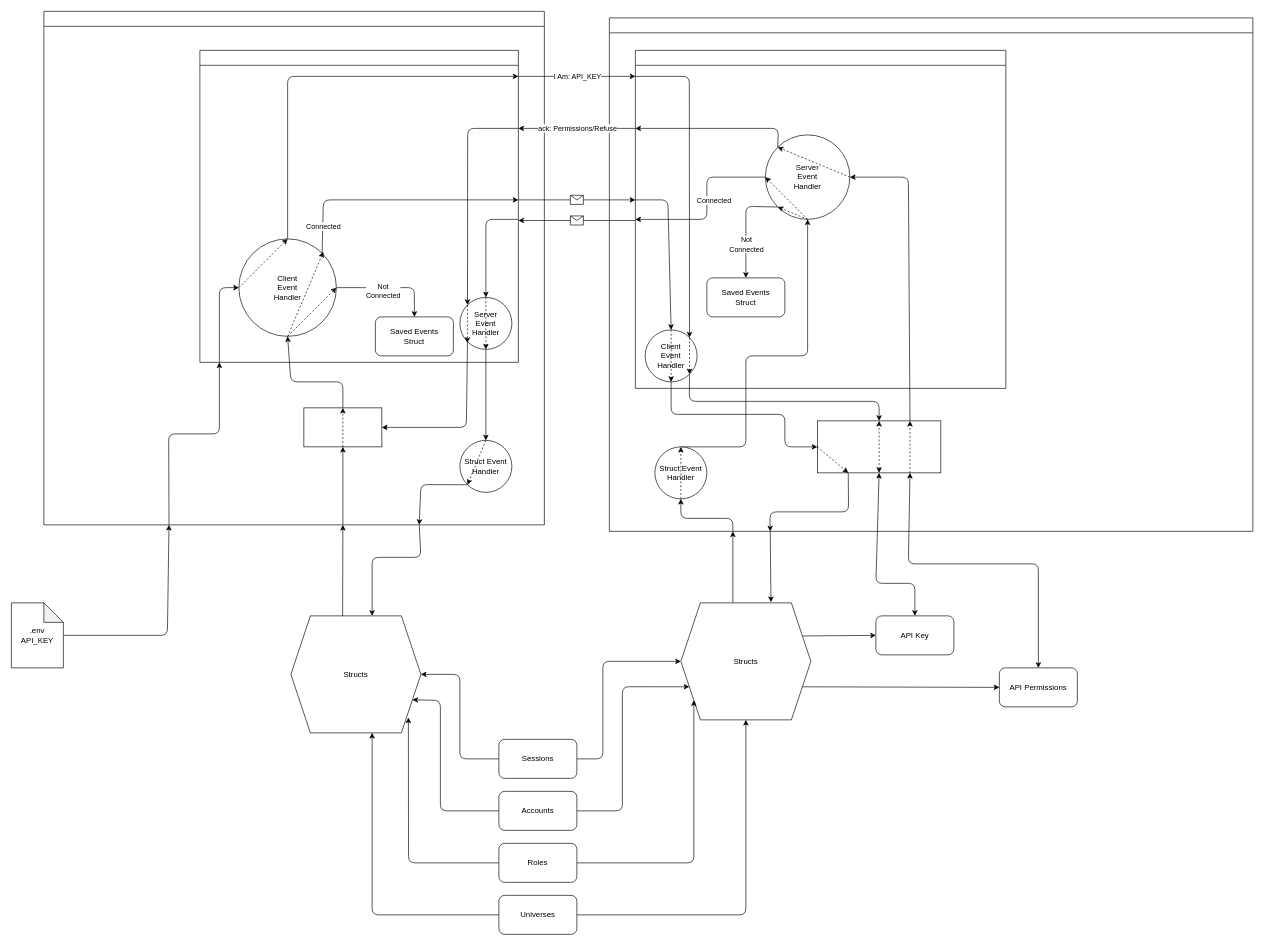
Image size: 1264x946. Some labels were removed from this diagram. The box of each missing label's shape, as (x1, y1, x2, y2) in pixels:
API Permission Handler: (817, 420, 941, 473)
Client API: (43, 11, 544, 525)
Local Permission Handler: (303, 407, 382, 447)
Server API: (609, 17, 1253, 531)
TCP Client: (199, 50, 518, 362)
TCP Server Connection: (635, 50, 1006, 388)
